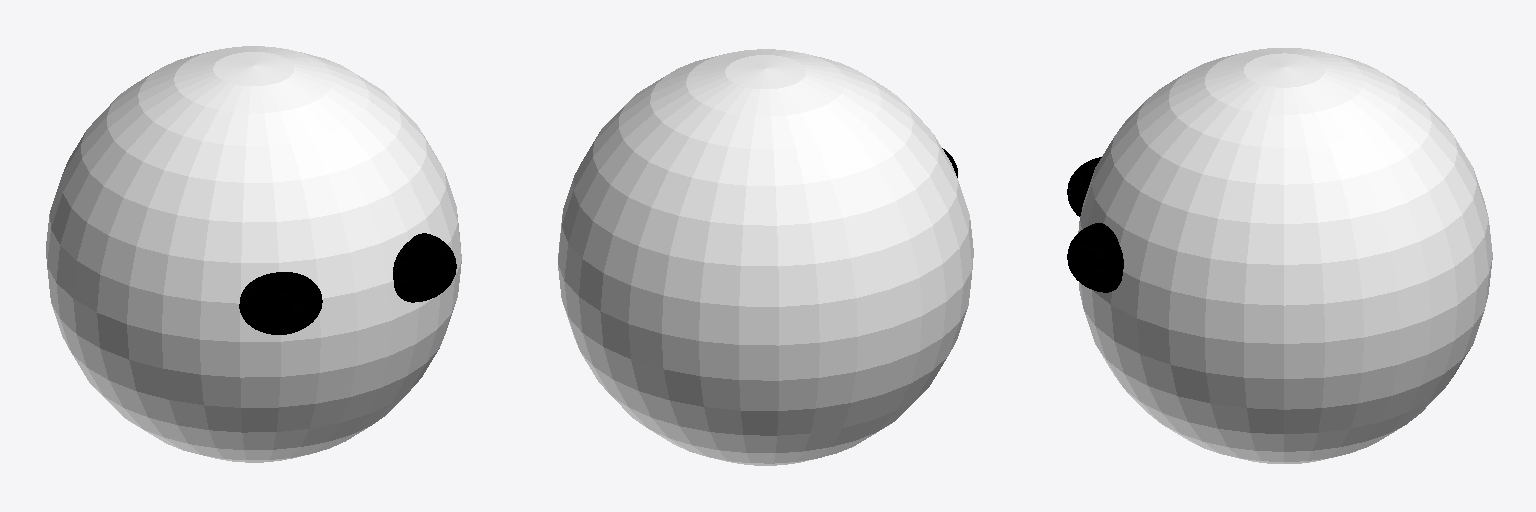
3 renders of one model, left to right at view 1: azimuth 30°, elevation 25°; view 2: azimuth 150°, elevation 25°; view 3: azimuth 270°, elevation 25°, orthographic.
Parts seen in each view (by area): view 1: 球.002; view 2: 球.002; view 3: 球.002.
Boxes of the visible parts, <box> form: 球.002: <box>46,46,461,462</box>; 球.002: <box>558,49,973,465</box>; 球.002: <box>1067,48,1492,463</box>.
Size of the model in its own units: 0.8837 by 0.8837 by 0.9021.
Materials: 1 (1 with a texture image).